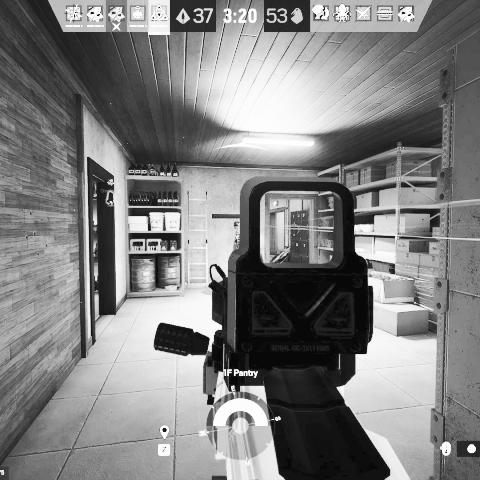Character: (232, 220, 243, 251)
Friend_label: (101, 179, 120, 193)
Head: (233, 220, 241, 230)
